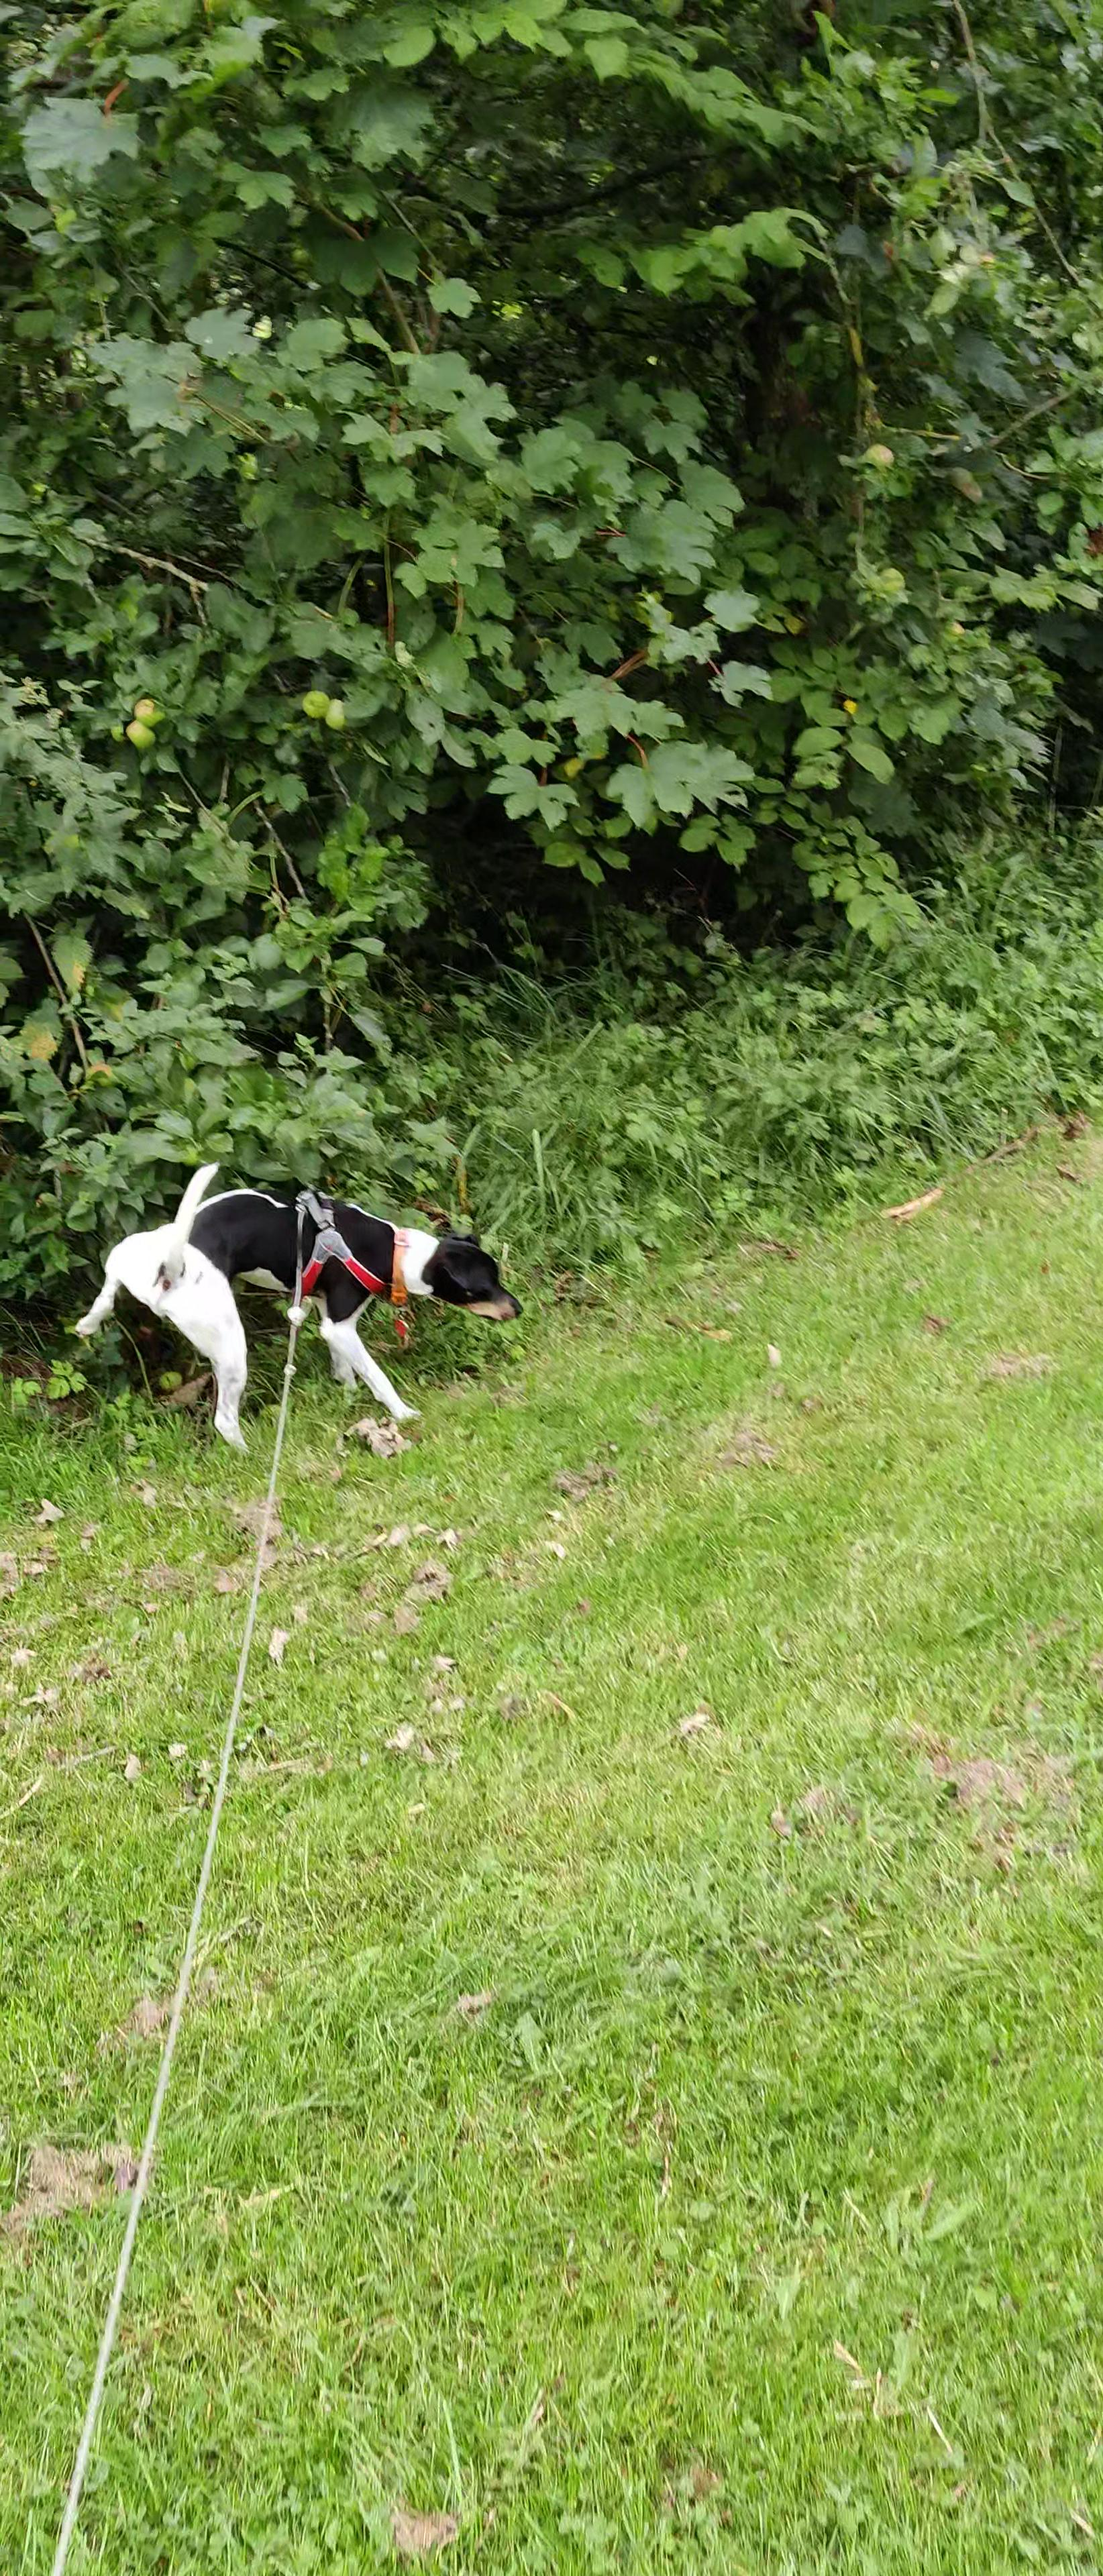Dog: (72, 1157, 521, 1459)
